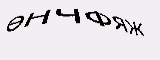Б: (40, 19, 51, 40)
Н: (79, 19, 103, 45)
С: (66, 17, 77, 41)
Ф: (49, 17, 66, 40)
Я: (100, 18, 126, 51)
